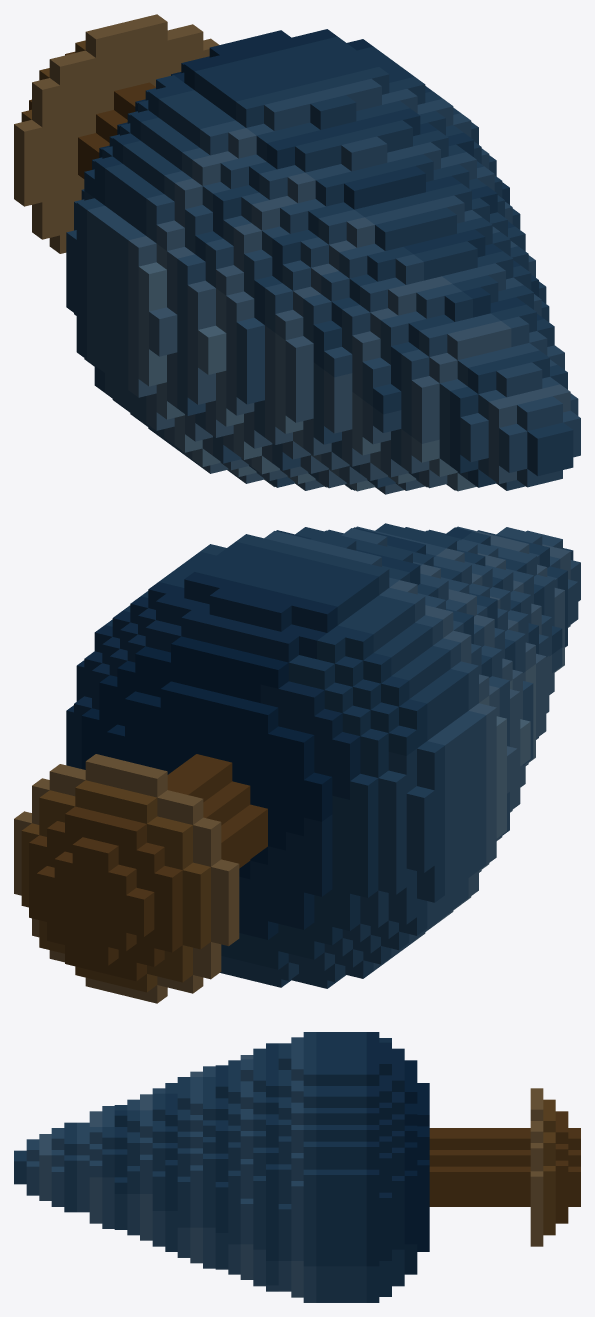
The model's file is tree_blue.obj.
3 views of the same model, one above another, from view 1: azimuth 30°, elevation 25°; view 2: azimuth 150°, elevation 25°; view 3: azimuth 270°, elevation 25° (orthographic). The views are drawn at different scales.
Size of the model in its own units: 2 by 2 by 4.5.
Materials: 1 (1 with a texture image).
